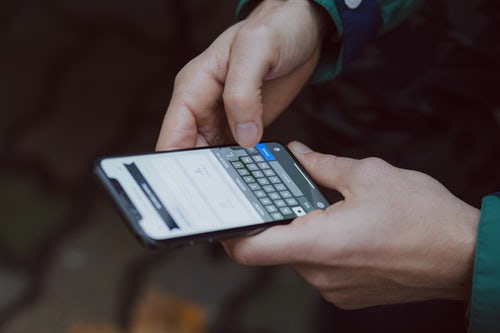phone: (91, 142, 343, 251)
